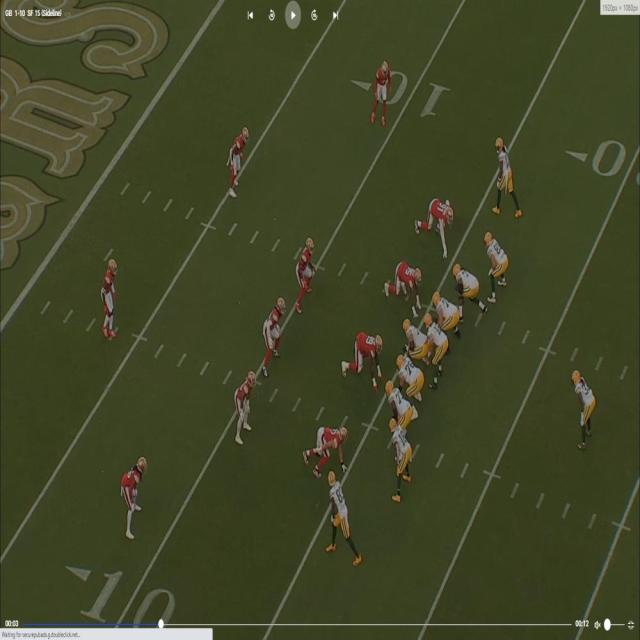center: (400, 313, 422, 345)
db: (125, 458, 144, 538), (372, 59, 391, 125), (104, 250, 118, 338), (227, 127, 245, 194)
lb: (264, 301, 284, 369), (296, 236, 313, 314), (236, 374, 254, 441)
qb: (431, 322, 446, 388)
skill: (494, 140, 518, 218), (328, 474, 352, 549), (389, 417, 414, 488), (572, 371, 592, 442), (487, 232, 509, 288)
